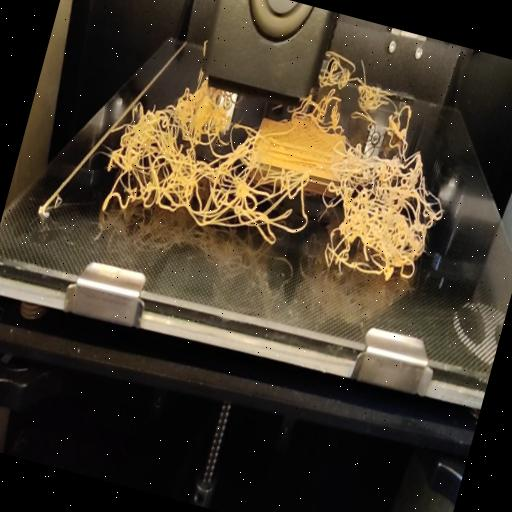spaghetti: (90, 57, 462, 296), (306, 40, 426, 140)
